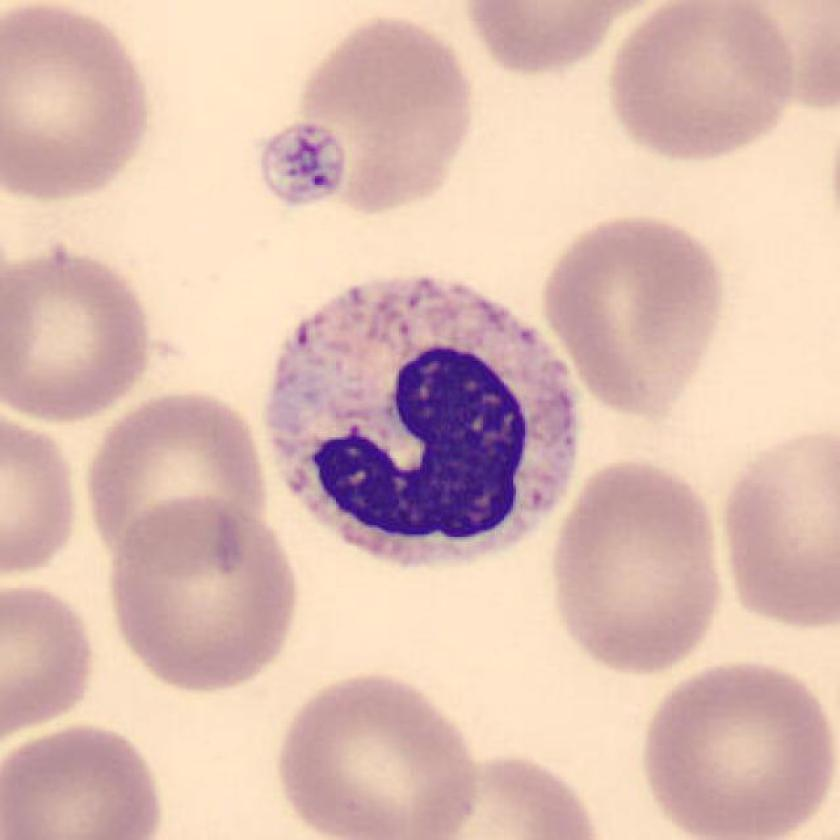neutrophil: (269, 278, 580, 564)
